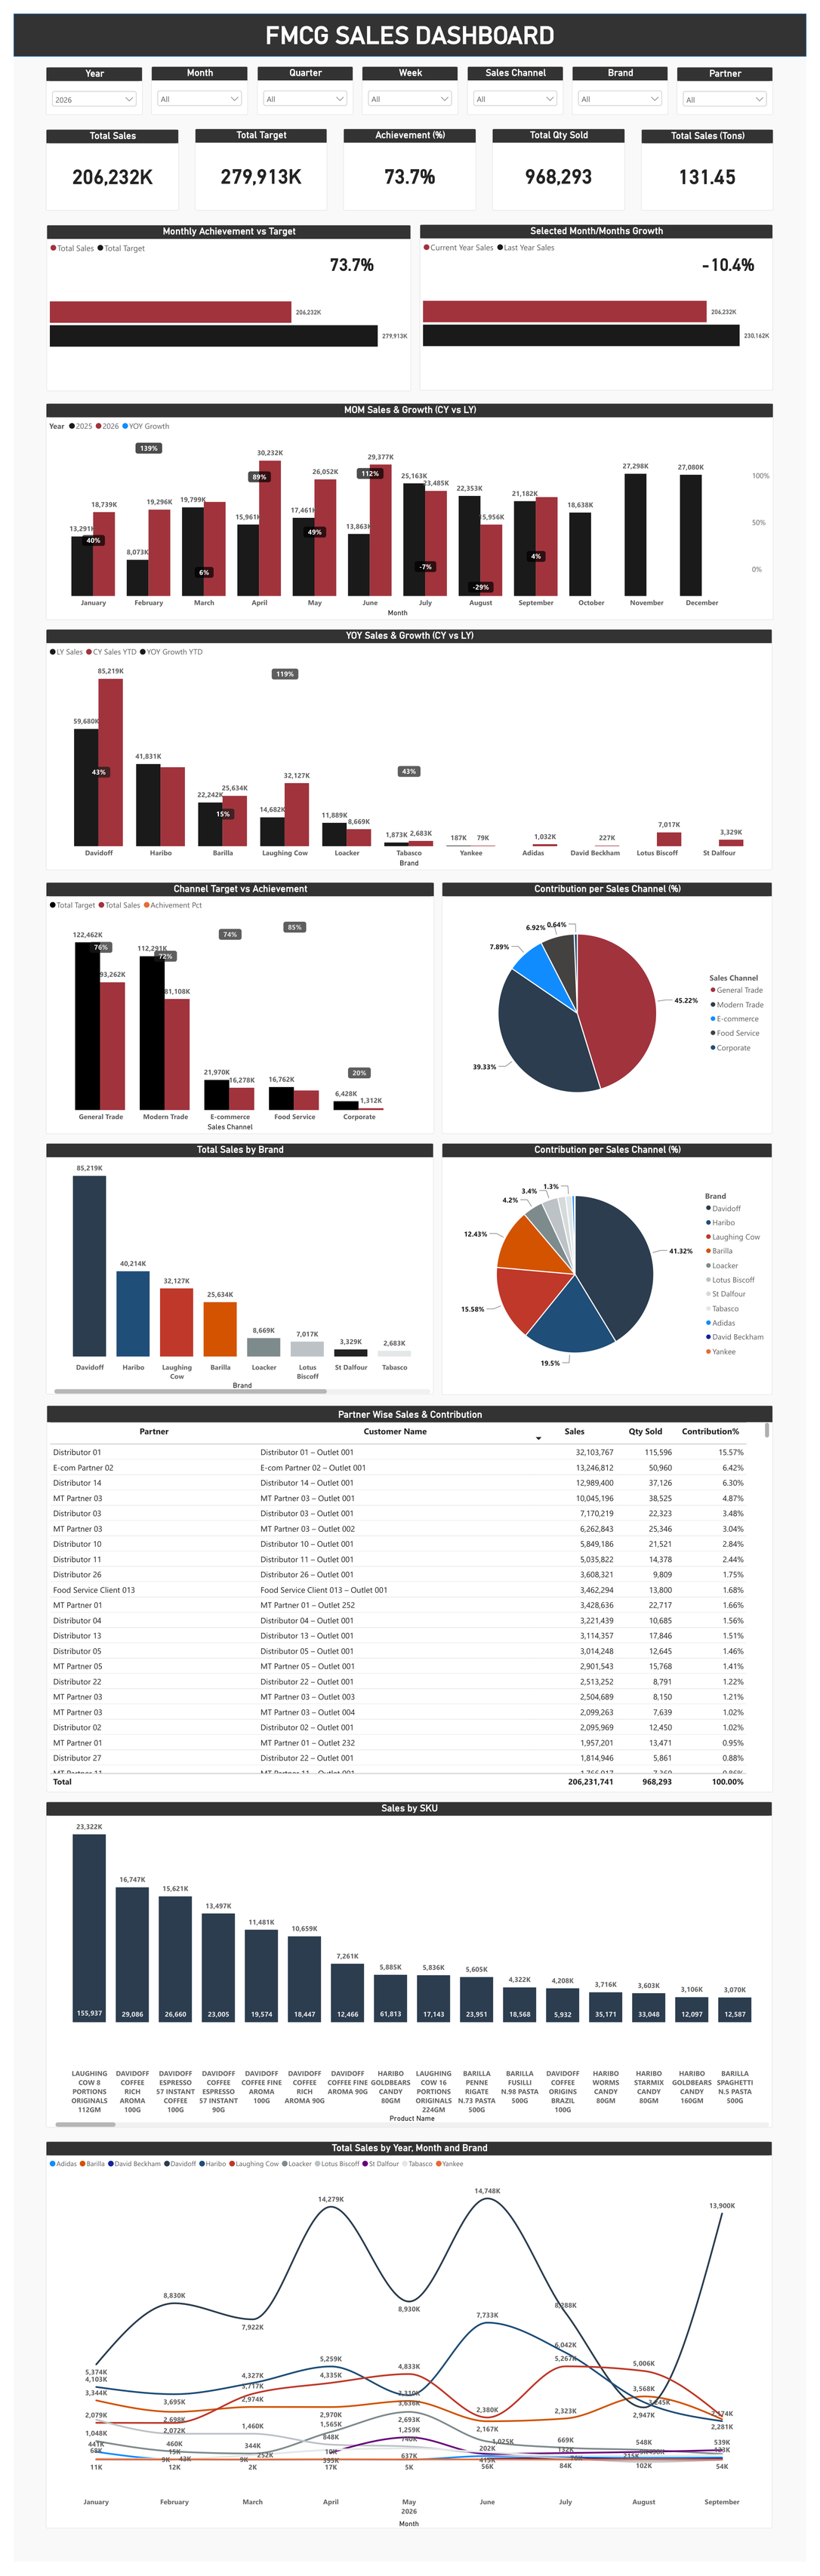

Layout of this report page (visuals, bound fields, positions):
{"tool":"powerbi","page":{"name":"Page 1","canvas":[1400,4501],"ordinal":0},"visuals":[{"type":"clusteredBarChart","title":"Selected Month/Months Growth","fields":{"Y":["Sales Master Sheet.Current Year Sales","Sales Master Sheet.Last Year Sales"]},"box":[716.7,372.1,624,294],"z":0},{"type":"shape","box":[0,0,1400,75.6],"z":1000},{"type":"slicer","title":"Year","fields":{"Values":["Date.Year"]},"box":[56.9,93.7,171.1,85.6],"z":2000},{"type":"slicer","title":"Partner","fields":{"Values":["Sales Master Sheet.Partner"]},"box":[1171.3,93.7,170,85.6],"z":3000},{"type":"slicer","title":"Brand","fields":{"Values":["Sales Master Sheet.Brand"]},"box":[985.9,93.2,170,85.6],"z":4000},{"type":"slicer","title":"Week","fields":{"Values":["Sales Master Sheet.Week Number"]},"box":[615.2,93.2,170,85.6],"z":5000},{"type":"card","title":"Total Sales","fields":{"Values":["Sales Master Sheet.Total Sales"]},"box":[57.2,203.6,234.4,144.4],"z":6000},{"type":"card","title":"Achievement (%)","fields":{"Values":["Sales Master Sheet.Achivement Pct"]},"box":[582.2,203.5,234.4,144.4],"z":7000},{"type":"slicer","title":"Sales Channel","fields":{"Values":["SalesChannel.Sales Channel"]},"box":[800.6,93.2,170,85.6],"z":8000},{"type":"clusteredBarChart","title":"Monthly Achievement vs Target","fields":{"Y":["Sales Master Sheet.Total Sales","Target.Total Target"]},"box":[57.8,373.2,644,294],"z":9000},{"type":"card","title":"Achievement% (MTD)","fields":{"Values":["Sales Master Sheet.Achivement Pct"]},"box":[536,411.7,123,61],"z":10000},{"type":"slicer","title":"Quarter","fields":{"Values":["Date.Quarter"]},"box":[429.8,93.2,170,85.6],"z":11000},{"type":"card","title":"Achievement% (MTD)","fields":{"Values":["Sales Master Sheet.YOY Growth%"]},"box":[1194.1,411.4,134.4,61.1],"z":12000},{"type":"lineClusteredColumnComboChart","title":"MOM Sales & Growth (CY vs LY)","fields":{"Category":["Date.Month"],"Series":["Date.Year"],"Y":["Sales Master Sheet.Total Sales"],"Y2":["Sales Master Sheet.YOY Growth 2"]},"box":[56.7,687.7,1285,383],"z":13000},{"type":"slicer","title":"Month","fields":{"Values":["Date.Month"]},"box":[243.3,93.2,171.1,85.6],"z":14000},{"type":"lineClusteredColumnComboChart","title":"YOY Sales & Growth (CY vs LY)","fields":{"Category":["Sales Master Sheet.Brand"],"Y":["Sales Master Sheet.LY Sales V1","Sales Master Sheet.CY Sales V1"],"Y2":["Sales Master Sheet.YOY Growth V1"]},"box":[56.7,1086.6,1283.3,426.7],"z":15000},{"type":"pieChart","title":"Contribution per Sales Channel (%)","fields":{"Category":["SalesChannel.Sales Channel"],"Y":["Sales Master Sheet.Total Sales"]},"box":[755.6,1534.3,584.4,444.4],"z":16000},{"type":"lineClusteredColumnComboChart","title":"Channel Target vs Achievement","fields":{"Category":["SalesChannel.Sales Channel"],"Y":["Target.Total Target","Sales Master Sheet.Total Sales"],"Y2":["Sales Master Sheet.Achivement Pct"]},"box":[56.7,1534.3,686.7,444.4],"z":17000},{"type":"card","title":"Total Target","fields":{"Values":["Target.Total Target"]},"box":[320.3,203.5,233.3,144.4],"z":18000},{"type":"pieChart","title":"Contribution per Sales Channel (%)","fields":{"Category":["Sales Master Sheet.Brand"],"Y":["Sales Master Sheet.Total Sales"]},"box":[755.6,1995.4,584.4,444.4],"z":19000},{"type":"lineClusteredColumnComboChart","title":"Total Sales by Brand","fields":{"Category":["Sales Master Sheet.Brand"],"Y":["Sales Master Sheet.Total Sales"]},"box":[56.7,1995.4,685,444],"z":20000},{"type":"textbox","box":[57.8,13.3,1284.4,62.2],"z":21000},{"type":"card","title":"Total Sales (Tons)","fields":{"Values":["Sales Master Sheet.Tons"]},"box":[1108.3,203.6,233.3,144.4],"z":22000},{"type":"card","title":"Total Qty Sold","fields":{"Values":["Sales Master Sheet.Total Qty Sold"]},"box":[845.3,203.5,234.4,144.4],"z":23000},{"type":"tableEx","title":"Partner Wise Sales & Contribution","fields":{"Values":["Sales Master Sheet.Partner","Sales Master Sheet.Customer Name","Sum(Sales Master Sheet.Total Amount)","Sum(Sales Master Sheet.Qty)","Divide(Sum(Sales Master Sheet.Total Amount), ScopedEval(Sum(Sales Master Sheet.Total Amount), []))"]},"box":[57.8,2457.7,1283.3,684.4],"z":24000},{"type":"lineChart","fields":{"Category":["Date.Date.Variation.Date Hierarchy.Year","Date.Date.Variation.Date Hierarchy.Month"],"Series":["Sales Master Sheet.Brand"],"Y":["Sales Master Sheet.Total Sales"]},"box":[56.7,3757.7,1283,684],"z":25000},{"type":"lineClusteredColumnComboChart","title":"Sales by SKU","fields":{"Category":["Sales Master Sheet.Product Name"],"Y":["Sales Master Sheet.Total Sales"],"Y2":["Sales Master Sheet.Total Qty Sold"]},"box":[56.7,3157.7,1283.3,576.7],"z":26000}]}

Visuals, with their boxes in screenshot pixels (x1, y1, x2, y2), scaled from the page's 1400x4501 canvas onto the 820x2576 screenshot:
"Selected Month/Months Growth" clusteredBarChart: l=420, t=213, r=785, b=381
shape: l=0, t=0, r=819, b=43
"Year" slicer: l=33, t=54, r=134, b=103
"Partner" slicer: l=686, t=54, r=785, b=103
"Brand" slicer: l=578, t=54, r=677, b=103
"Week" slicer: l=360, t=54, r=460, b=103
"Total Sales" card: l=33, t=116, r=171, b=199
"Achievement (%)" card: l=341, t=116, r=478, b=199
"Sales Channel" slicer: l=469, t=54, r=569, b=103
"Monthly Achievement vs Target" clusteredBarChart: l=34, t=214, r=411, b=382
"Achievement% (MTD)" card: l=314, t=236, r=386, b=270
"Quarter" slicer: l=251, t=54, r=351, b=103
"Achievement% (MTD)" card: l=699, t=236, r=778, b=270
"MOM Sales & Growth (CY vs LY)" lineClusteredColumnComboChart: l=33, t=393, r=786, b=613
"Month" slicer: l=143, t=54, r=242, b=103
"YOY Sales & Growth (CY vs LY)" lineClusteredColumnComboChart: l=33, t=622, r=785, b=866
"Contribution per Sales Channel (%)" pieChart: l=442, t=878, r=785, b=1132
"Channel Target vs Achievement" lineClusteredColumnComboChart: l=33, t=878, r=436, b=1132
"Total Target" card: l=187, t=116, r=324, b=199
"Contribution per Sales Channel (%)" pieChart: l=442, t=1142, r=785, b=1396
"Total Sales by Brand" lineClusteredColumnComboChart: l=33, t=1142, r=434, b=1396
textbox: l=34, t=8, r=786, b=43
"Total Sales (Tons)" card: l=649, t=116, r=786, b=199
"Total Qty Sold" card: l=495, t=116, r=633, b=199
"Partner Wise Sales & Contribution" tableEx: l=34, t=1407, r=785, b=1798
lineChart - Date.Date.Variation.Date Hierarchy.Year x Date.Date.Variation.Date Hierarchy.Month: l=33, t=2151, r=785, b=2542
"Sales by SKU" lineClusteredColumnComboChart: l=33, t=1807, r=785, b=2137
